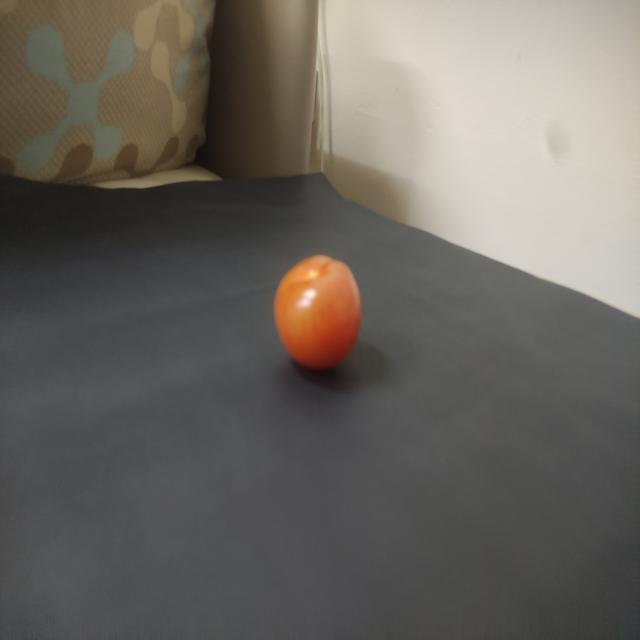sari: (246, 238, 381, 374)
